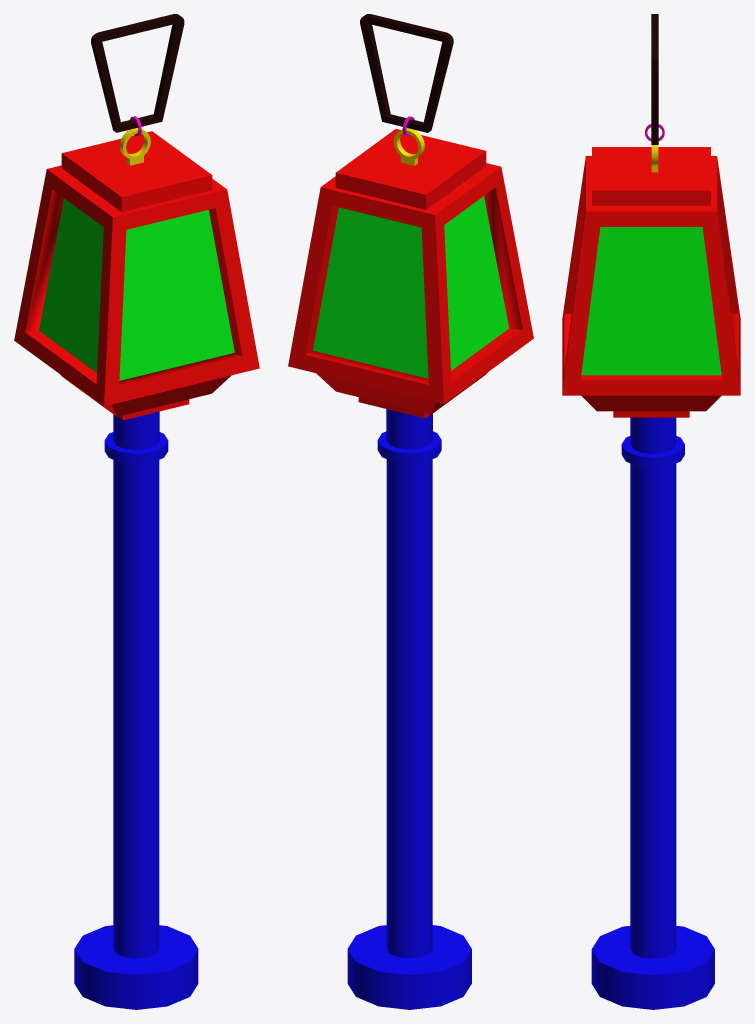
File: crystal_light_lollipop_low.FBX
3 renders of one model, left to right at view 1: azimuth 30°, elevation 25°; view 2: azimuth 150°, elevation 25°; view 3: azimuth 270°, elevation 25°, orthographic.
Parts seen in each view (by area): view 1: arm_low, body_low, glass, handle_low, metal_ring_1_low; view 2: arm_low, body_low, glass, handle_low, metal_ring_1_low; view 3: arm_low, body_low, glass, handle_low.
Boxes of the visible parts, bbox=[...] form: arm_low: bbox=[74, 411, 198, 1009]; body_low: bbox=[14, 131, 259, 420]; glass: bbox=[39, 198, 234, 380]; handle_low: bbox=[91, 14, 184, 132]; metal_ring_1_low: bbox=[119, 127, 150, 165]; arm_low: bbox=[347, 409, 471, 1009]; body_low: bbox=[288, 129, 533, 418]; glass: bbox=[313, 196, 508, 378]; handle_low: bbox=[360, 14, 453, 132]; metal_ring_1_low: bbox=[393, 128, 424, 165]; arm_low: bbox=[591, 417, 714, 1009]; body_low: bbox=[562, 147, 740, 417]; glass: bbox=[581, 227, 721, 375]; handle_low: bbox=[651, 14, 658, 144].
Bounding box in the file's own units: 16.4 × 96.39 × 16.4.
